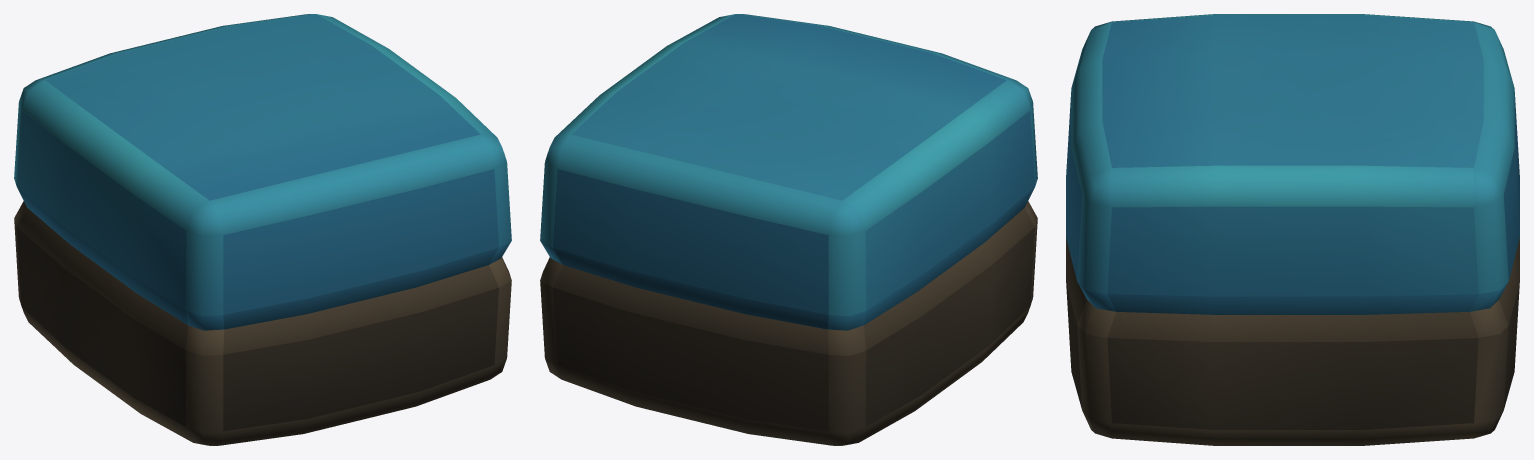
File: sofa1_3_LOD_setup.fbx
The picture shows the model from 3 angles, left to right: view 1: azimuth 30°, elevation 25°; view 2: azimuth 150°, elevation 25°; view 3: azimuth 270°, elevation 25°; orthographic projection. The views are drawn at different scales.
Parts seen in each view (by area): view 1: sofa1_3_LOD0; view 2: sofa1_3_LOD0; view 3: sofa1_3_LOD0.
Boxes of the visible parts, x1,y1,x2,y2 form: sofa1_3_LOD0: [14, 14, 511, 445]; sofa1_3_LOD0: [540, 14, 1037, 445]; sofa1_3_LOD0: [1066, 14, 1519, 445].
Size of what is drawn, in the model's own units: 52.66 by 39.39 by 56.2.
